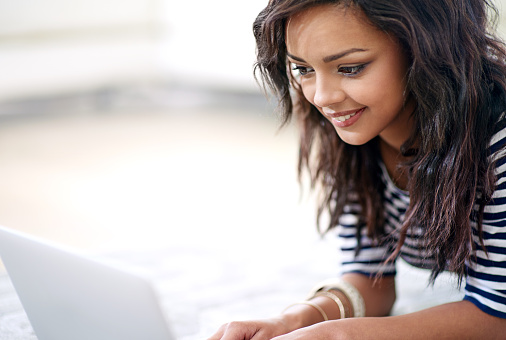deitado: (198, 0, 506, 340)
